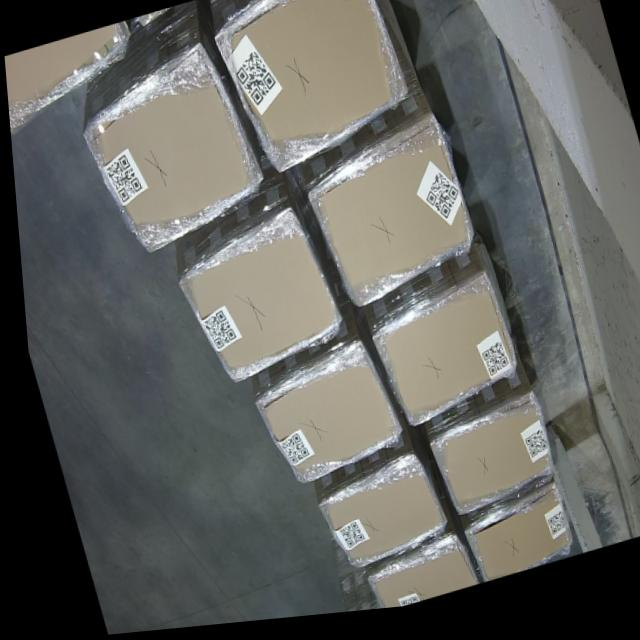pallet: (83, 42, 259, 258), (213, 0, 407, 179), (301, 127, 472, 316), (173, 215, 335, 387), (363, 276, 512, 437), (248, 344, 393, 490), (422, 400, 547, 523), (309, 464, 437, 573), (454, 492, 562, 591), (362, 545, 469, 615)
